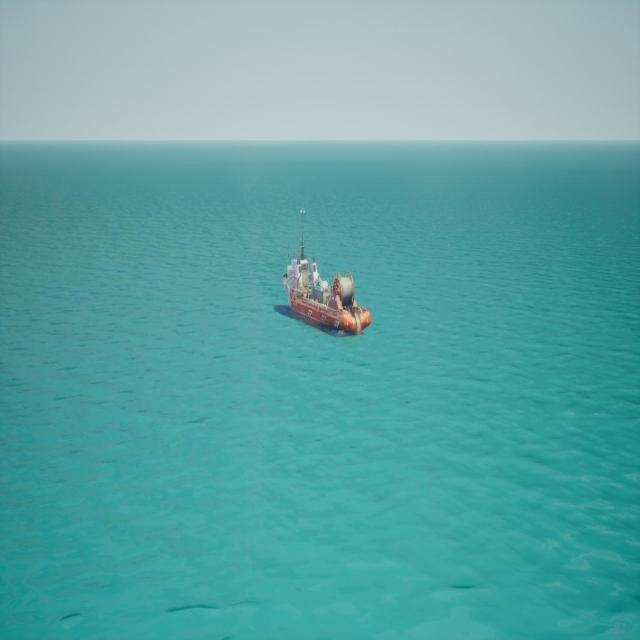tug boat: (277, 214, 372, 344)
